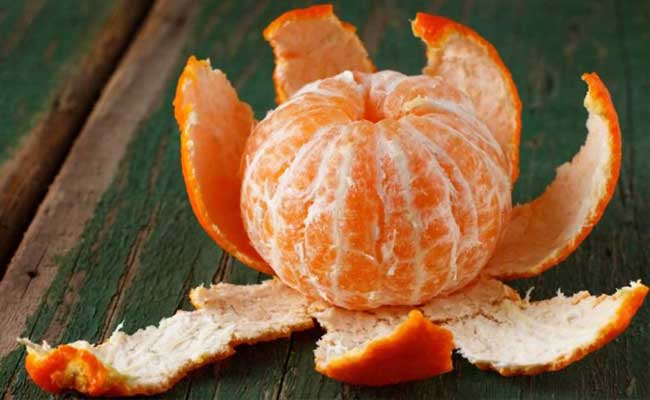orange: (243, 68, 532, 309)
